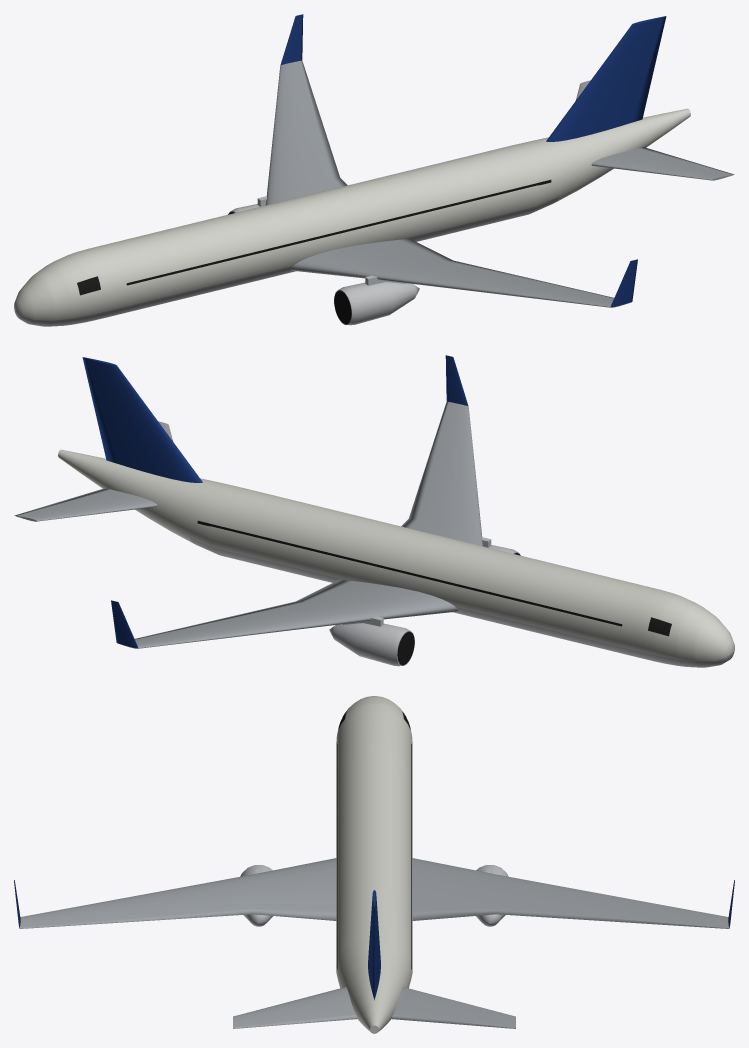
3 views of the same model, one above another, from view 1: azimuth 30°, elevation 25°; view 2: azimuth 150°, elevation 25°; view 3: azimuth 270°, elevation 25° (orthographic). The views are drawn at different scales.
Visible parts, largest first — view 1: b763; view 2: b763; view 3: b763.
Part boxes in pixels (x1,y1,x2,y2): b763: (14,14,734,326); b763: (14,355,734,667); b763: (14,696,734,1033).
Size of the model in its own units: 54.9 by 13.86 by 47.39.
